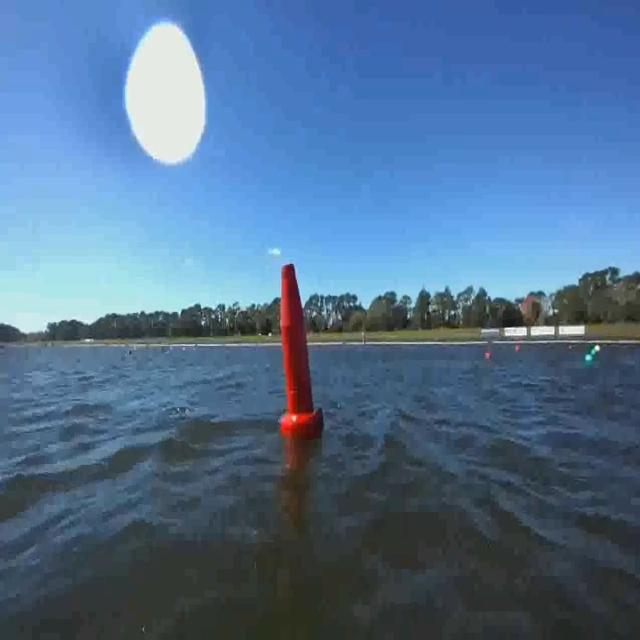red-column-buoy: (278, 259, 320, 437)
